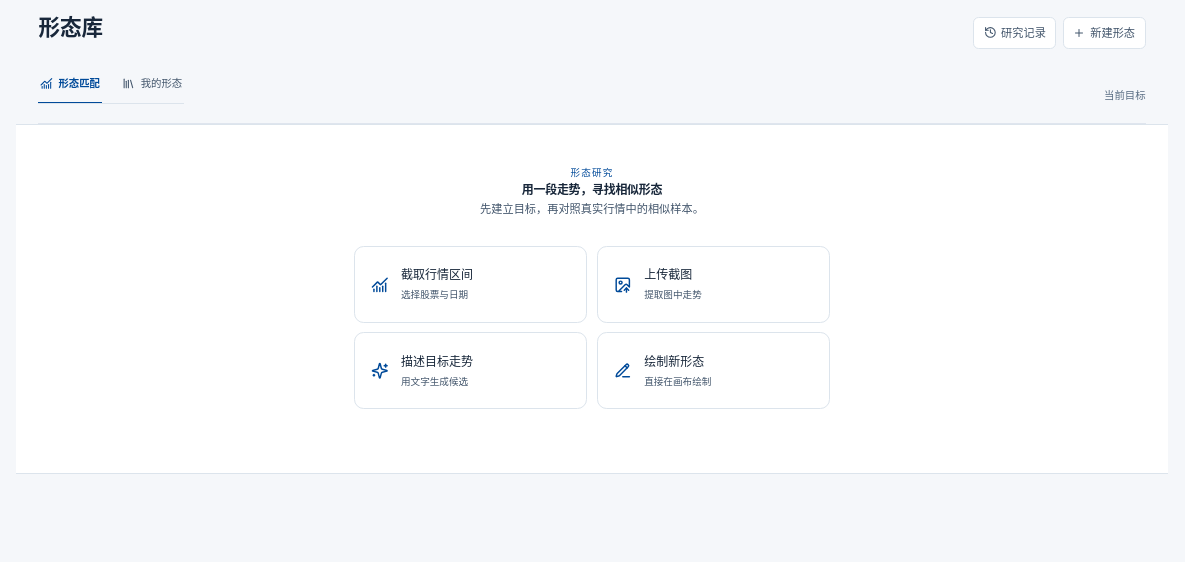
Scenario: opens a temporary named tool for the blank starter 绘制新形态
This screenshot has width=1185, height=562.
Click the button "绘制新形态 直接在画布绘制": click(714, 371) [597,332,830,409]
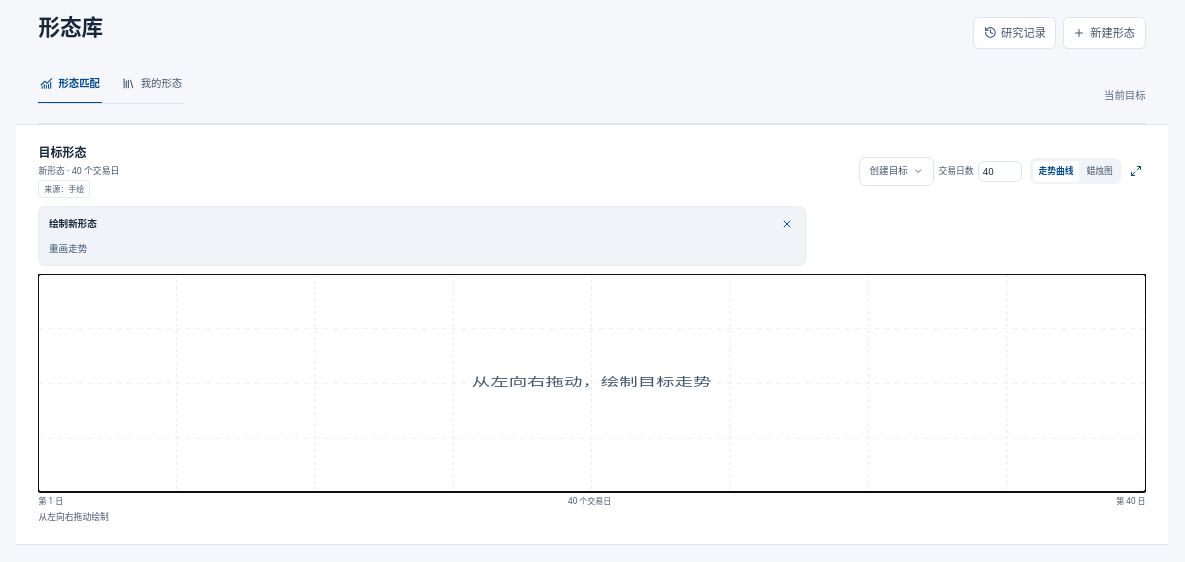
Expected: the header "绘制新形态" is shown, [49,215,796,234]
Expected: the button named "关闭输入工具" is shown
Click the button named "关闭输入工具": click(787, 224) [777,215,796,234]
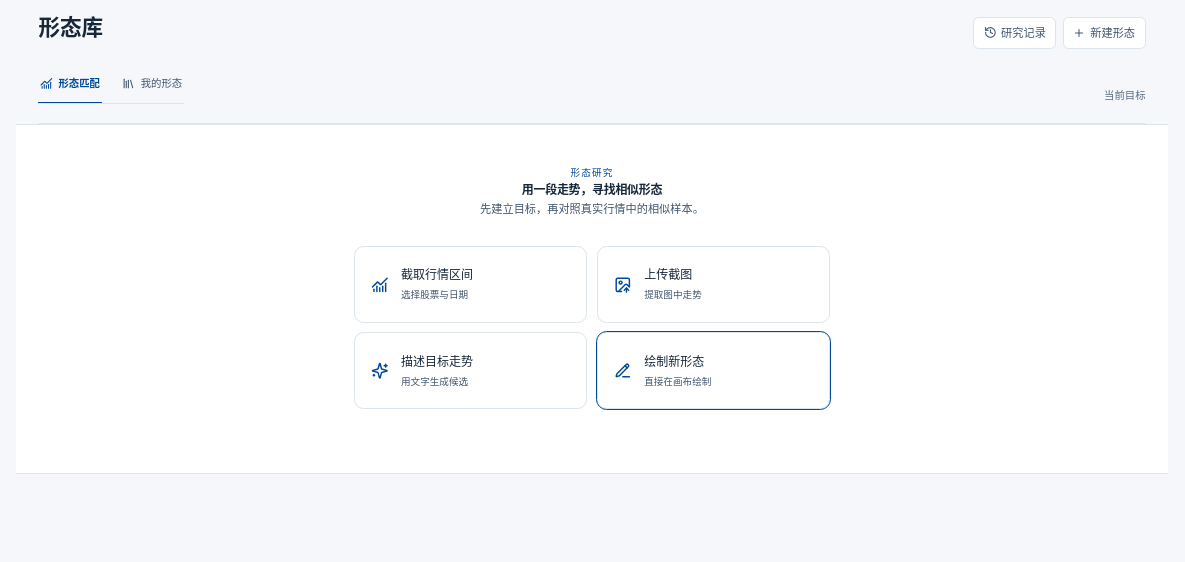
Expected: the element "输入工具" is gone
